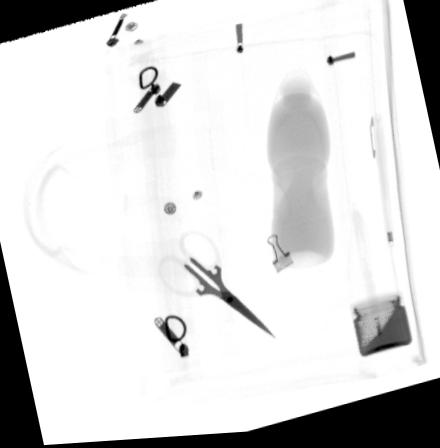Scissors: (156, 234, 274, 342)
